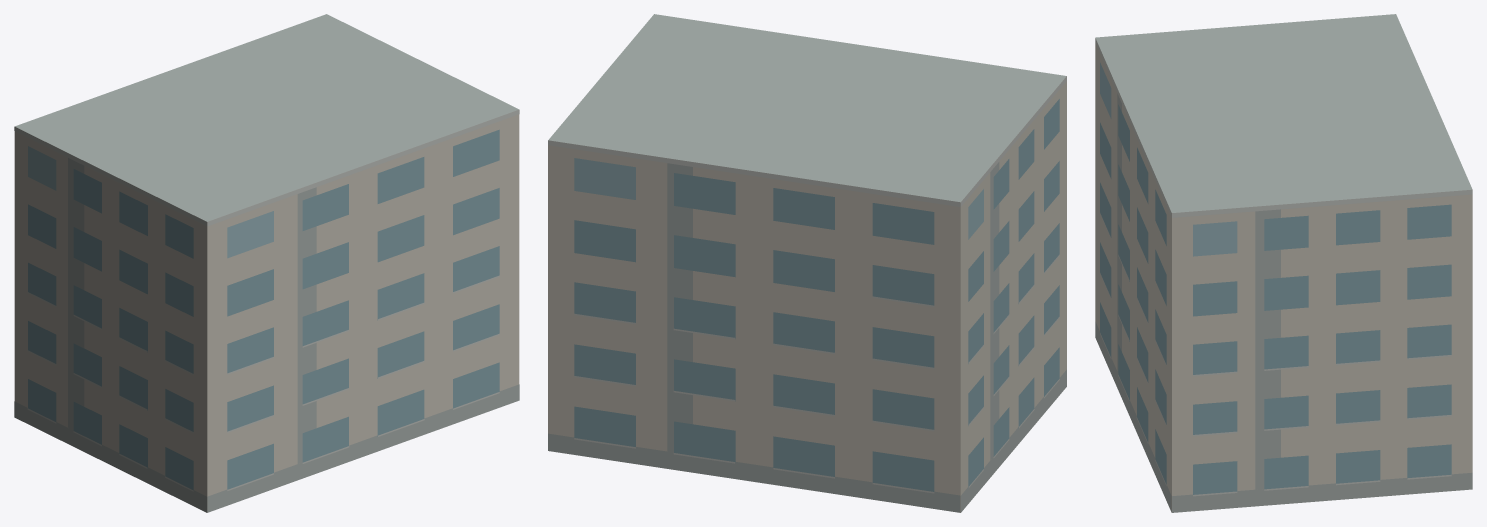
File: residential-fdae2fe5-2374-4811-adc4-b0131df155c5.glb
3 renders of one model, left to right at view 1: azimuth 30°, elevation 25°; view 2: azimuth 150°, elevation 25°; view 3: azimuth 270°, elevation 25°, orthographic. The views are drawn at different scales.
Visible parts, largest first — view 1: residential-fdae2fe5-2374-4811-adc4-b0131df155c5.tmp; view 2: residential-fdae2fe5-2374-4811-adc4-b0131df155c5.tmp; view 3: residential-fdae2fe5-2374-4811-adc4-b0131df155c5.tmp.
Part boxes in pixels (x1=…): residential-fdae2fe5-2374-4811-adc4-b0131df155c5.tmp: x1=14, y1=14, x2=519, y2=512; residential-fdae2fe5-2374-4811-adc4-b0131df155c5.tmp: x1=548, y1=14, x2=1066, y2=512; residential-fdae2fe5-2374-4811-adc4-b0131df155c5.tmp: x1=1095, y1=14, x2=1472, y2=512.
Size of the model in its own units: 21.74 by 15.25 by 17.41.
